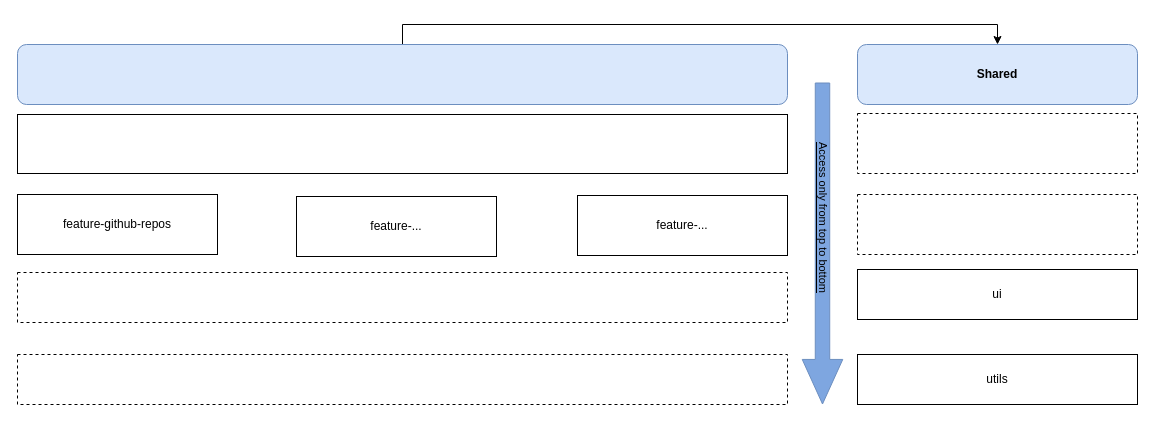
The diagram is 1155 pixels wide and 422 high, and some of its shapes have lost their labels. Here are the shapes that lost their labels. From the top down, the box of each, then its label:
(16, 44, 788, 104): Trending repo web app
(16, 114, 788, 174): Shell
